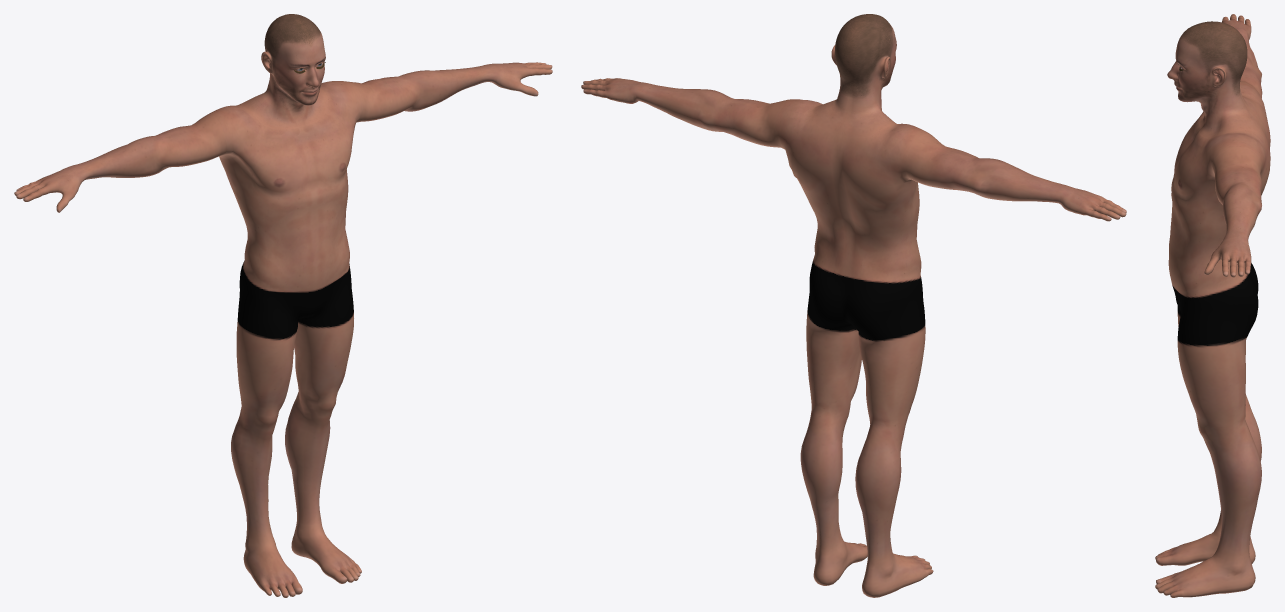
Rendered from Male.obj.
The picture shows the model from 3 angles, left to right: view 1: azimuth 30°, elevation 25°; view 2: azimuth 150°, elevation 25°; view 3: azimuth 270°, elevation 25°; orthographic projection.
Visible parts, largest first — view 1: Body; view 2: Body; view 3: Body.
Part boxes in pixels (x1,y1,x2,y2): Body: (14,14,552,597); Body: (581,14,1126,597); Body: (1155,14,1270,597).
Size of the model in its own units: 181 by 179 by 33.79.
Materials: 1 (1 with a texture image).
